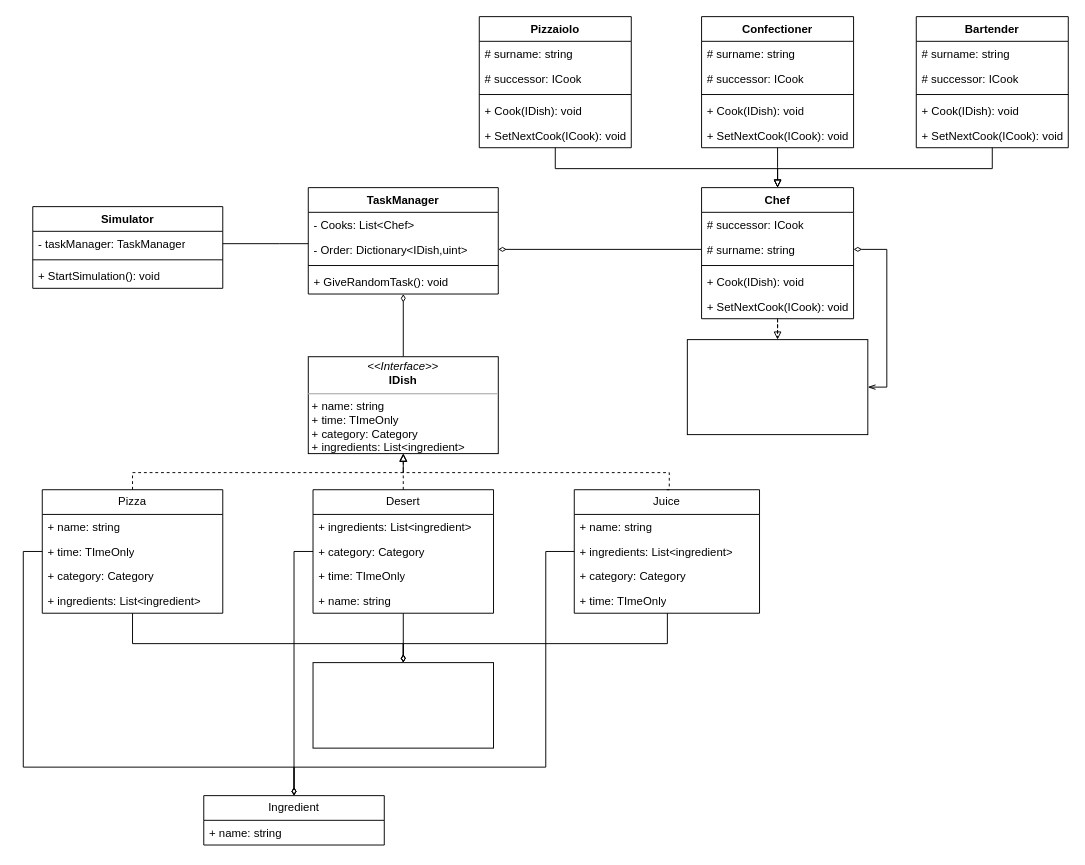
Image size: 1085x865. Some labels were removed from this diagram. Here are the shapes that lost their labels. From the top down, the centre of each, then its label:
At [777,387]: "<<Interface>> ICook + Cook(IDish): void + SetNextCook(ICook): void".
At [403,705]: "<<Enumeration>> Category Pizza Drink Desert".
